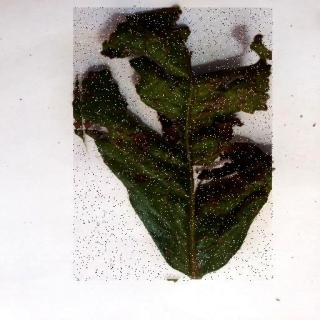Algal Leaf: (75, 9, 275, 282)
